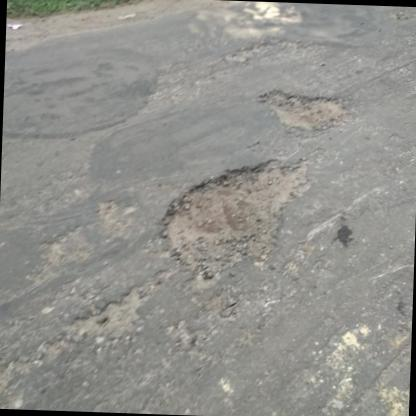pothole: (162, 152, 314, 281), (260, 86, 353, 131)
